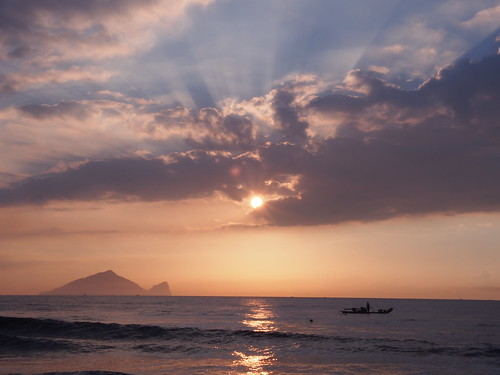turtleIsland: (38, 269, 175, 301)
